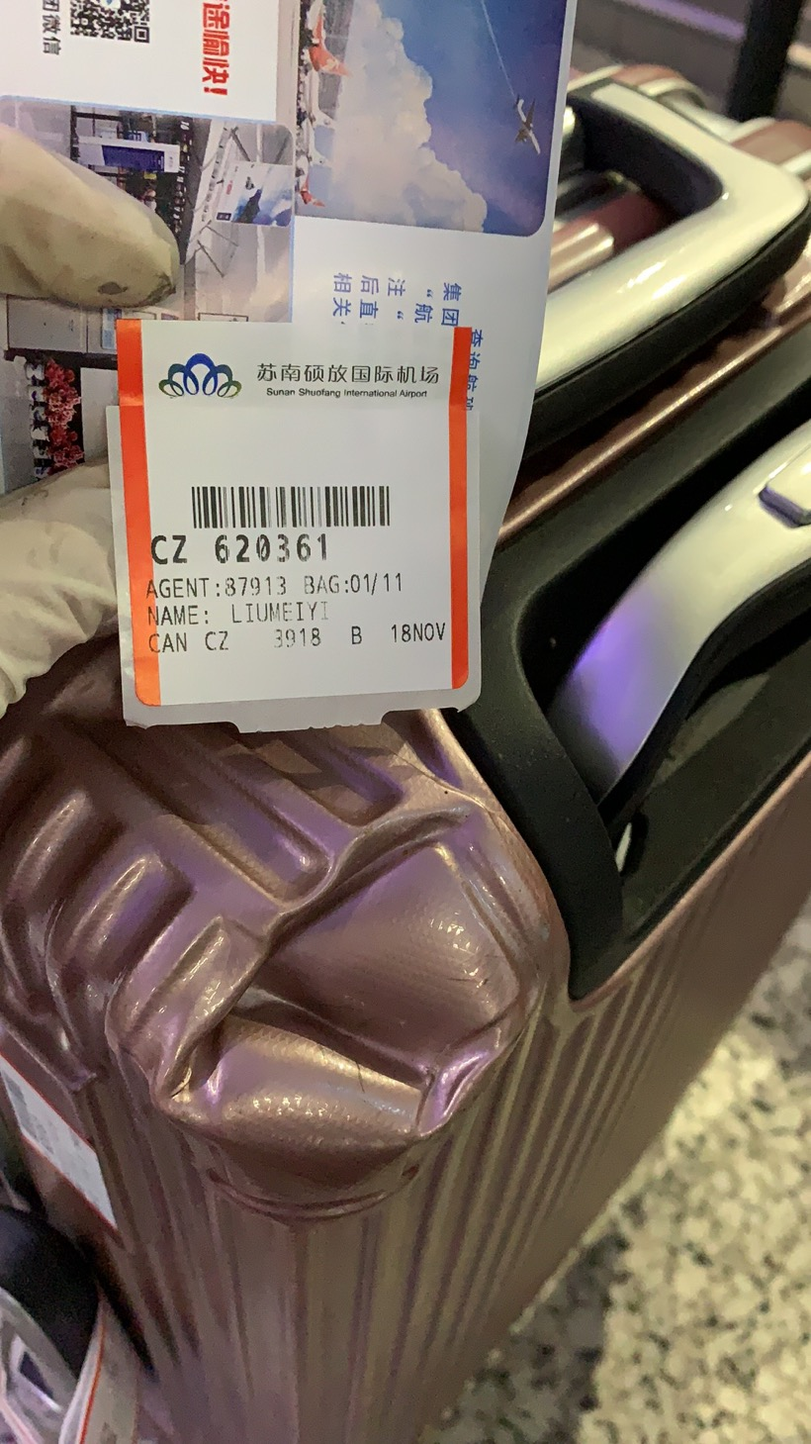rupture: (149, 805, 545, 1147)
